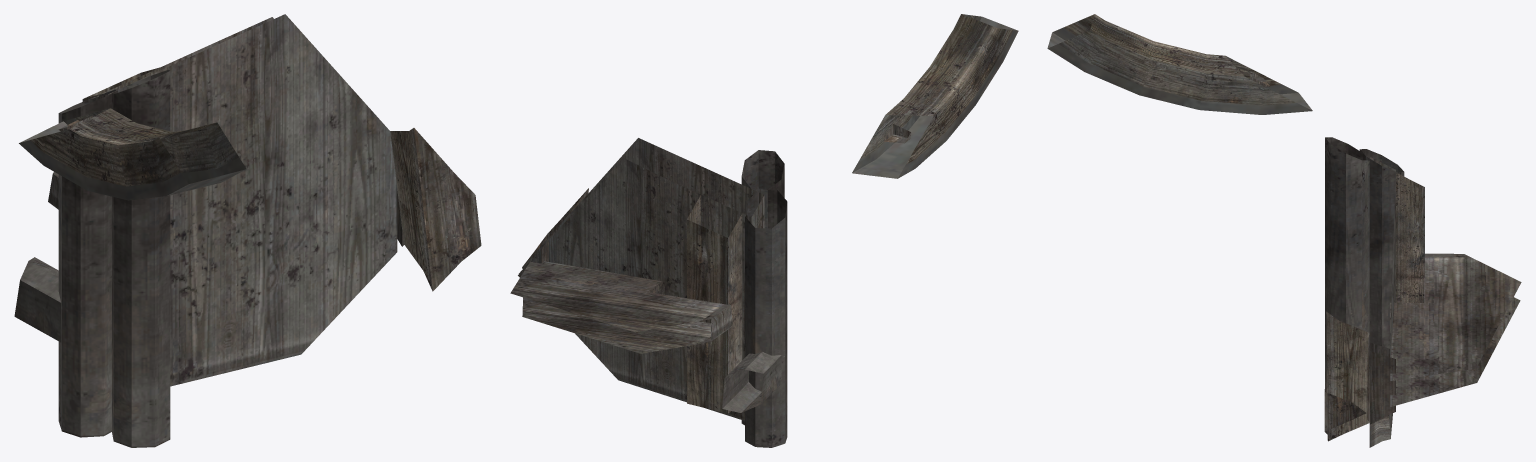
The model's file is Wagon3_12.fbx.
3 renders of one model, left to right at view 1: azimuth 30°, elevation 25°; view 2: azimuth 150°, elevation 25°; view 3: azimuth 270°, elevation 25°, orthographic. The views are drawn at different scales.
Visible parts, largest first — view 1: SM_Wagon03_DM.012; view 2: SM_Wagon03_DM.012; view 3: SM_Wagon03_DM.012.
Boxes of the visible parts, bbox=[...] form: SM_Wagon03_DM.012: bbox=[14, 14, 481, 447]; SM_Wagon03_DM.012: bbox=[510, 14, 1018, 447]; SM_Wagon03_DM.012: bbox=[1047, 14, 1521, 447].
Bounding box in the file's own units: 7035 × 6538 × 8285.
